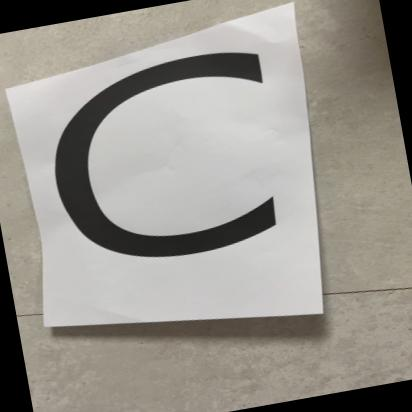seat: (0, 4, 356, 372)
